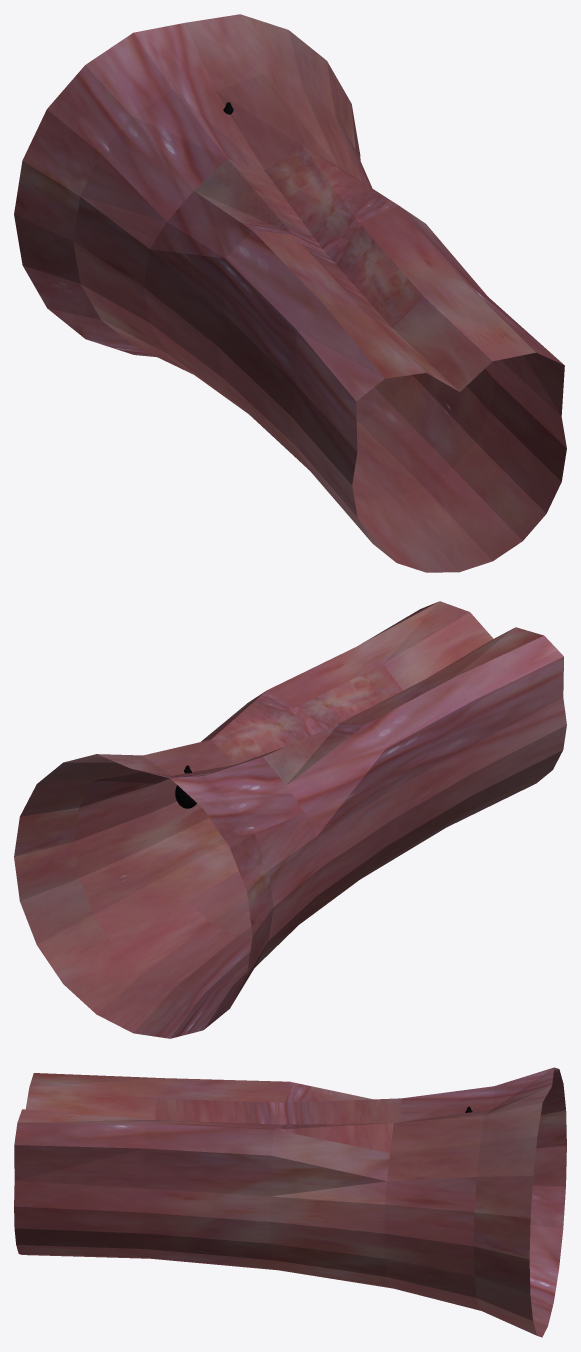
The model's file is palais+glotte.obj.
The picture shows the model from 3 angles, top to bottom: view 1: azimuth 30°, elevation 25°; view 2: azimuth 150°, elevation 25°; view 3: azimuth 270°, elevation 25°; orthographic projection. The views are drawn at different scales.
Size of the model in its own units: 369 by 337 by 701.
